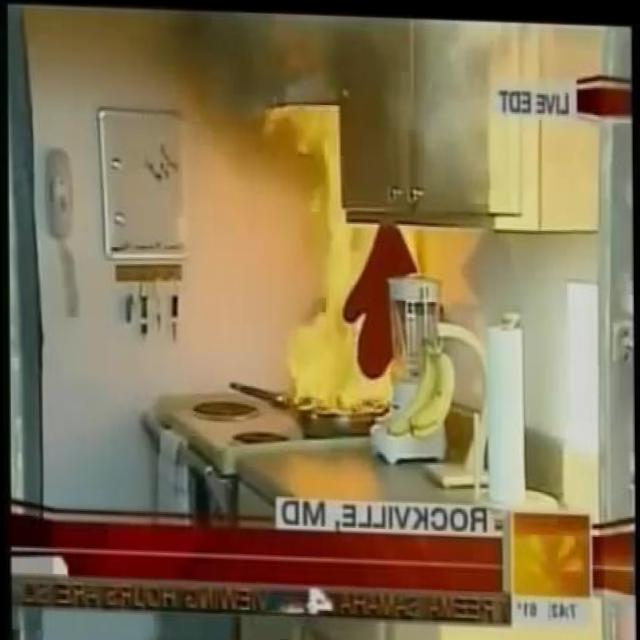fire: (277, 204, 394, 421)
